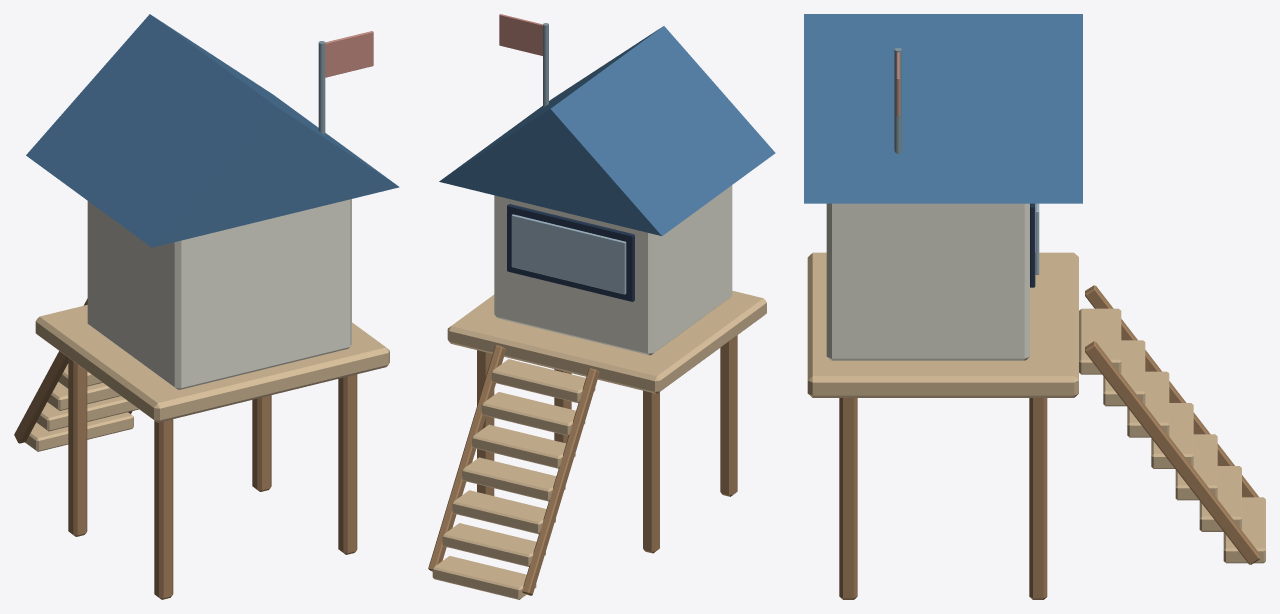
The model's file is lifeguard_tower.glb.
3 views of the same model, side by side, from view 1: azimuth 30°, elevation 25°; view 2: azimuth 150°, elevation 25°; view 3: azimuth 270°, elevation 25° (orthographic). The views are drawn at different scales.
Visible parts, largest first — view 1: gable_roof, cabin, raised_deck, support (×4), stair_tread (×3), flag, stair_stringer, flagpole; view 2: gable_roof, cabin, stair_tread (×7), raised_deck, support (×3), glass, stair_stringer (×2), front_window, flag, flagpole; view 3: gable_roof, cabin, raised_deck, stair_tread (×7), support (×2), stair_stringer (×2), flagpole.
Boxes of the visible parts, <box> form: gable_roof: <box>26,14,399,247</box>; cabin: <box>87,199,351,389</box>; raised_deck: <box>35,305,389,422</box>; support (×4): <box>68,358,357,599</box>; stair_tread (×3): <box>25,381,138,451</box>; flag: <box>325,31,373,77</box>; stair_stringer: <box>14,298,87,443</box>; flagpole: <box>318,41,325,134</box>; gable_roof: <box>439,26,775,235</box>; cabin: <box>494,185,732,355</box>; stair_tread (×7): <box>432,359,595,599</box>; raised_deck: <box>447,290,766,393</box>; support (×3): <box>477,335,737,553</box>; glass: <box>511,214,626,294</box>; stair_stringer (×2): <box>428,345,599,595</box>; front_window: <box>507,204,634,301</box>; flag: <box>499,14,542,55</box>; flagpole: <box>543,23,548,107</box>; gable_roof: <box>804,14,1082,203</box>; cabin: <box>826,203,1029,360</box>; raised_deck: <box>807,252,1078,397</box>; stair_tread (×7): <box>1079,308,1265,563</box>; support (×2): <box>839,398,1047,599</box>; stair_stringer (×2): <box>1085,285,1260,564</box>; flagpole: <box>894,48,901,153</box>.
Size of the model in its own units: 2.23 by 4 by 3.07.
